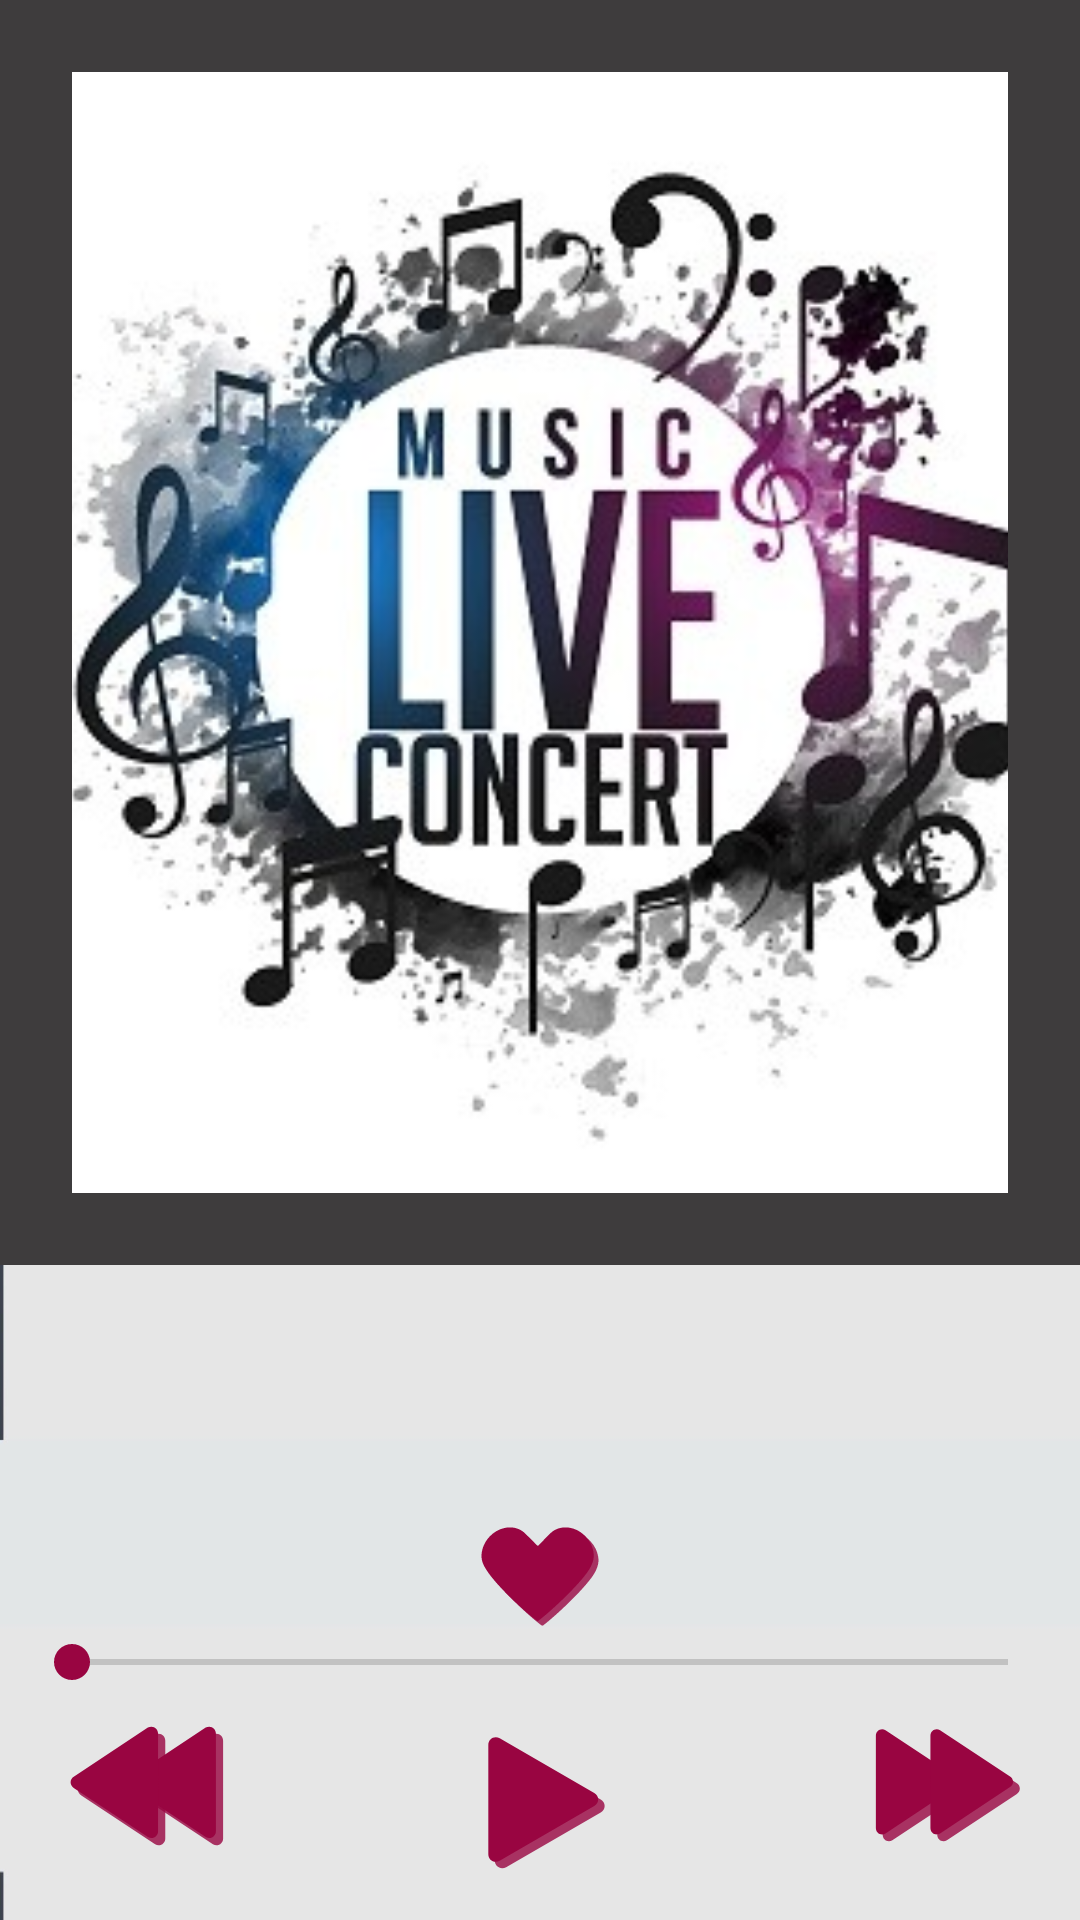

Named icons in this screenshot (1080 × 1920) and their centers, [x,y]:
favourite: [540,1576]
foward: [947,1785]
play: [546,1803]
rewind: [146,1786]
